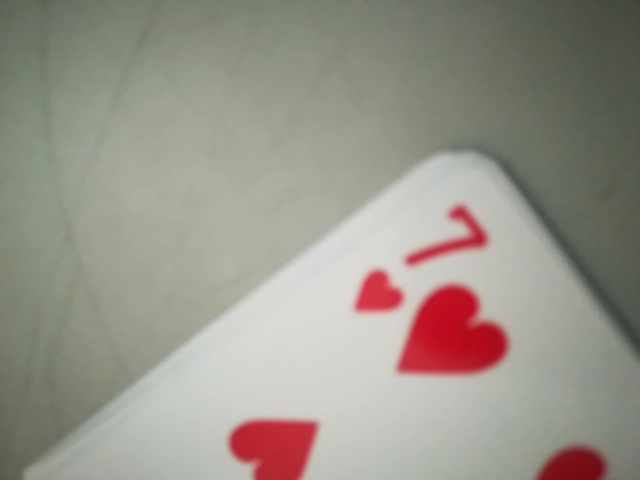hx 7: (351, 198, 497, 323)
